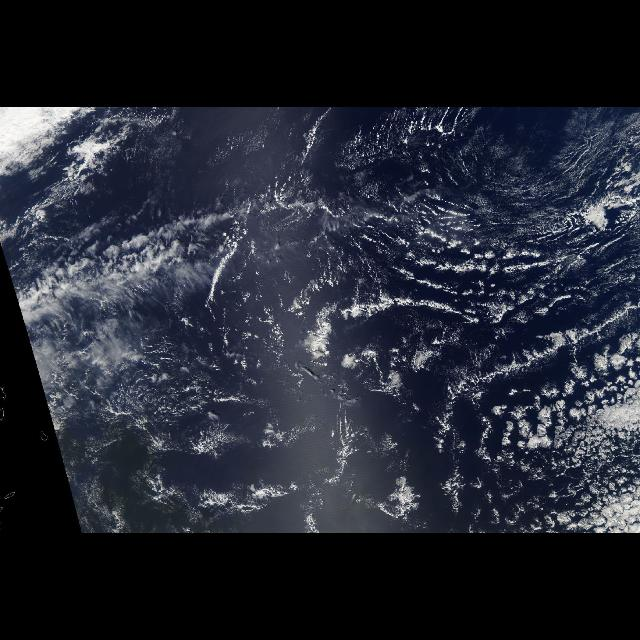Sugar: (464, 111, 570, 223)
